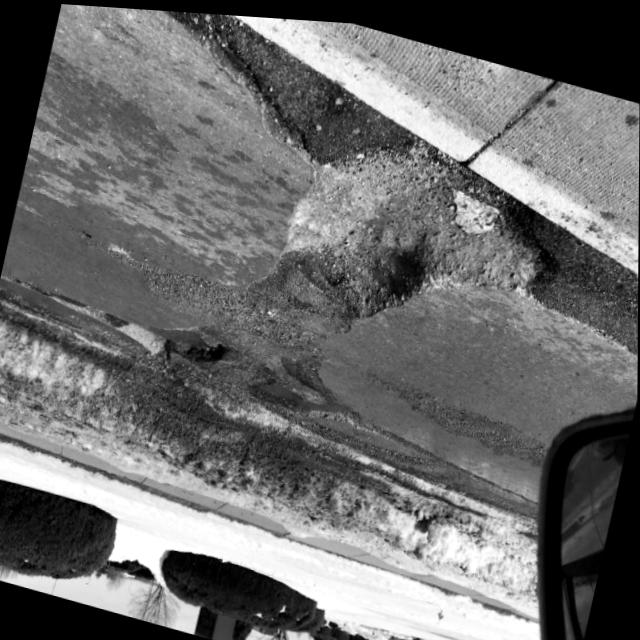pathole: (0, 3, 596, 542)
